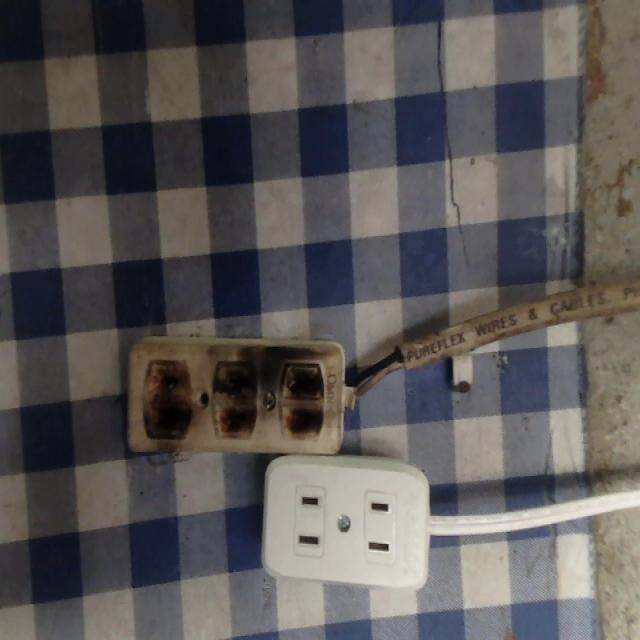-: (138, 351, 198, 441), (208, 353, 263, 443), (276, 361, 327, 439)
